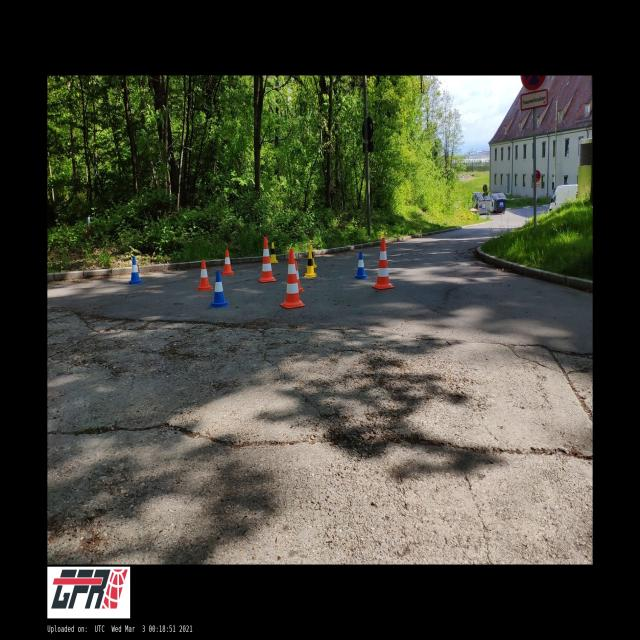blue_cone: (210, 272, 228, 308), (127, 257, 143, 284), (354, 252, 368, 280)
large_orange_cone: (280, 249, 305, 309), (372, 238, 394, 290), (258, 238, 276, 283)
orange_cone: (196, 260, 214, 290), (294, 260, 304, 293), (221, 250, 234, 275)
yellow_cone: (304, 251, 316, 278), (306, 245, 316, 268), (270, 243, 278, 263)
